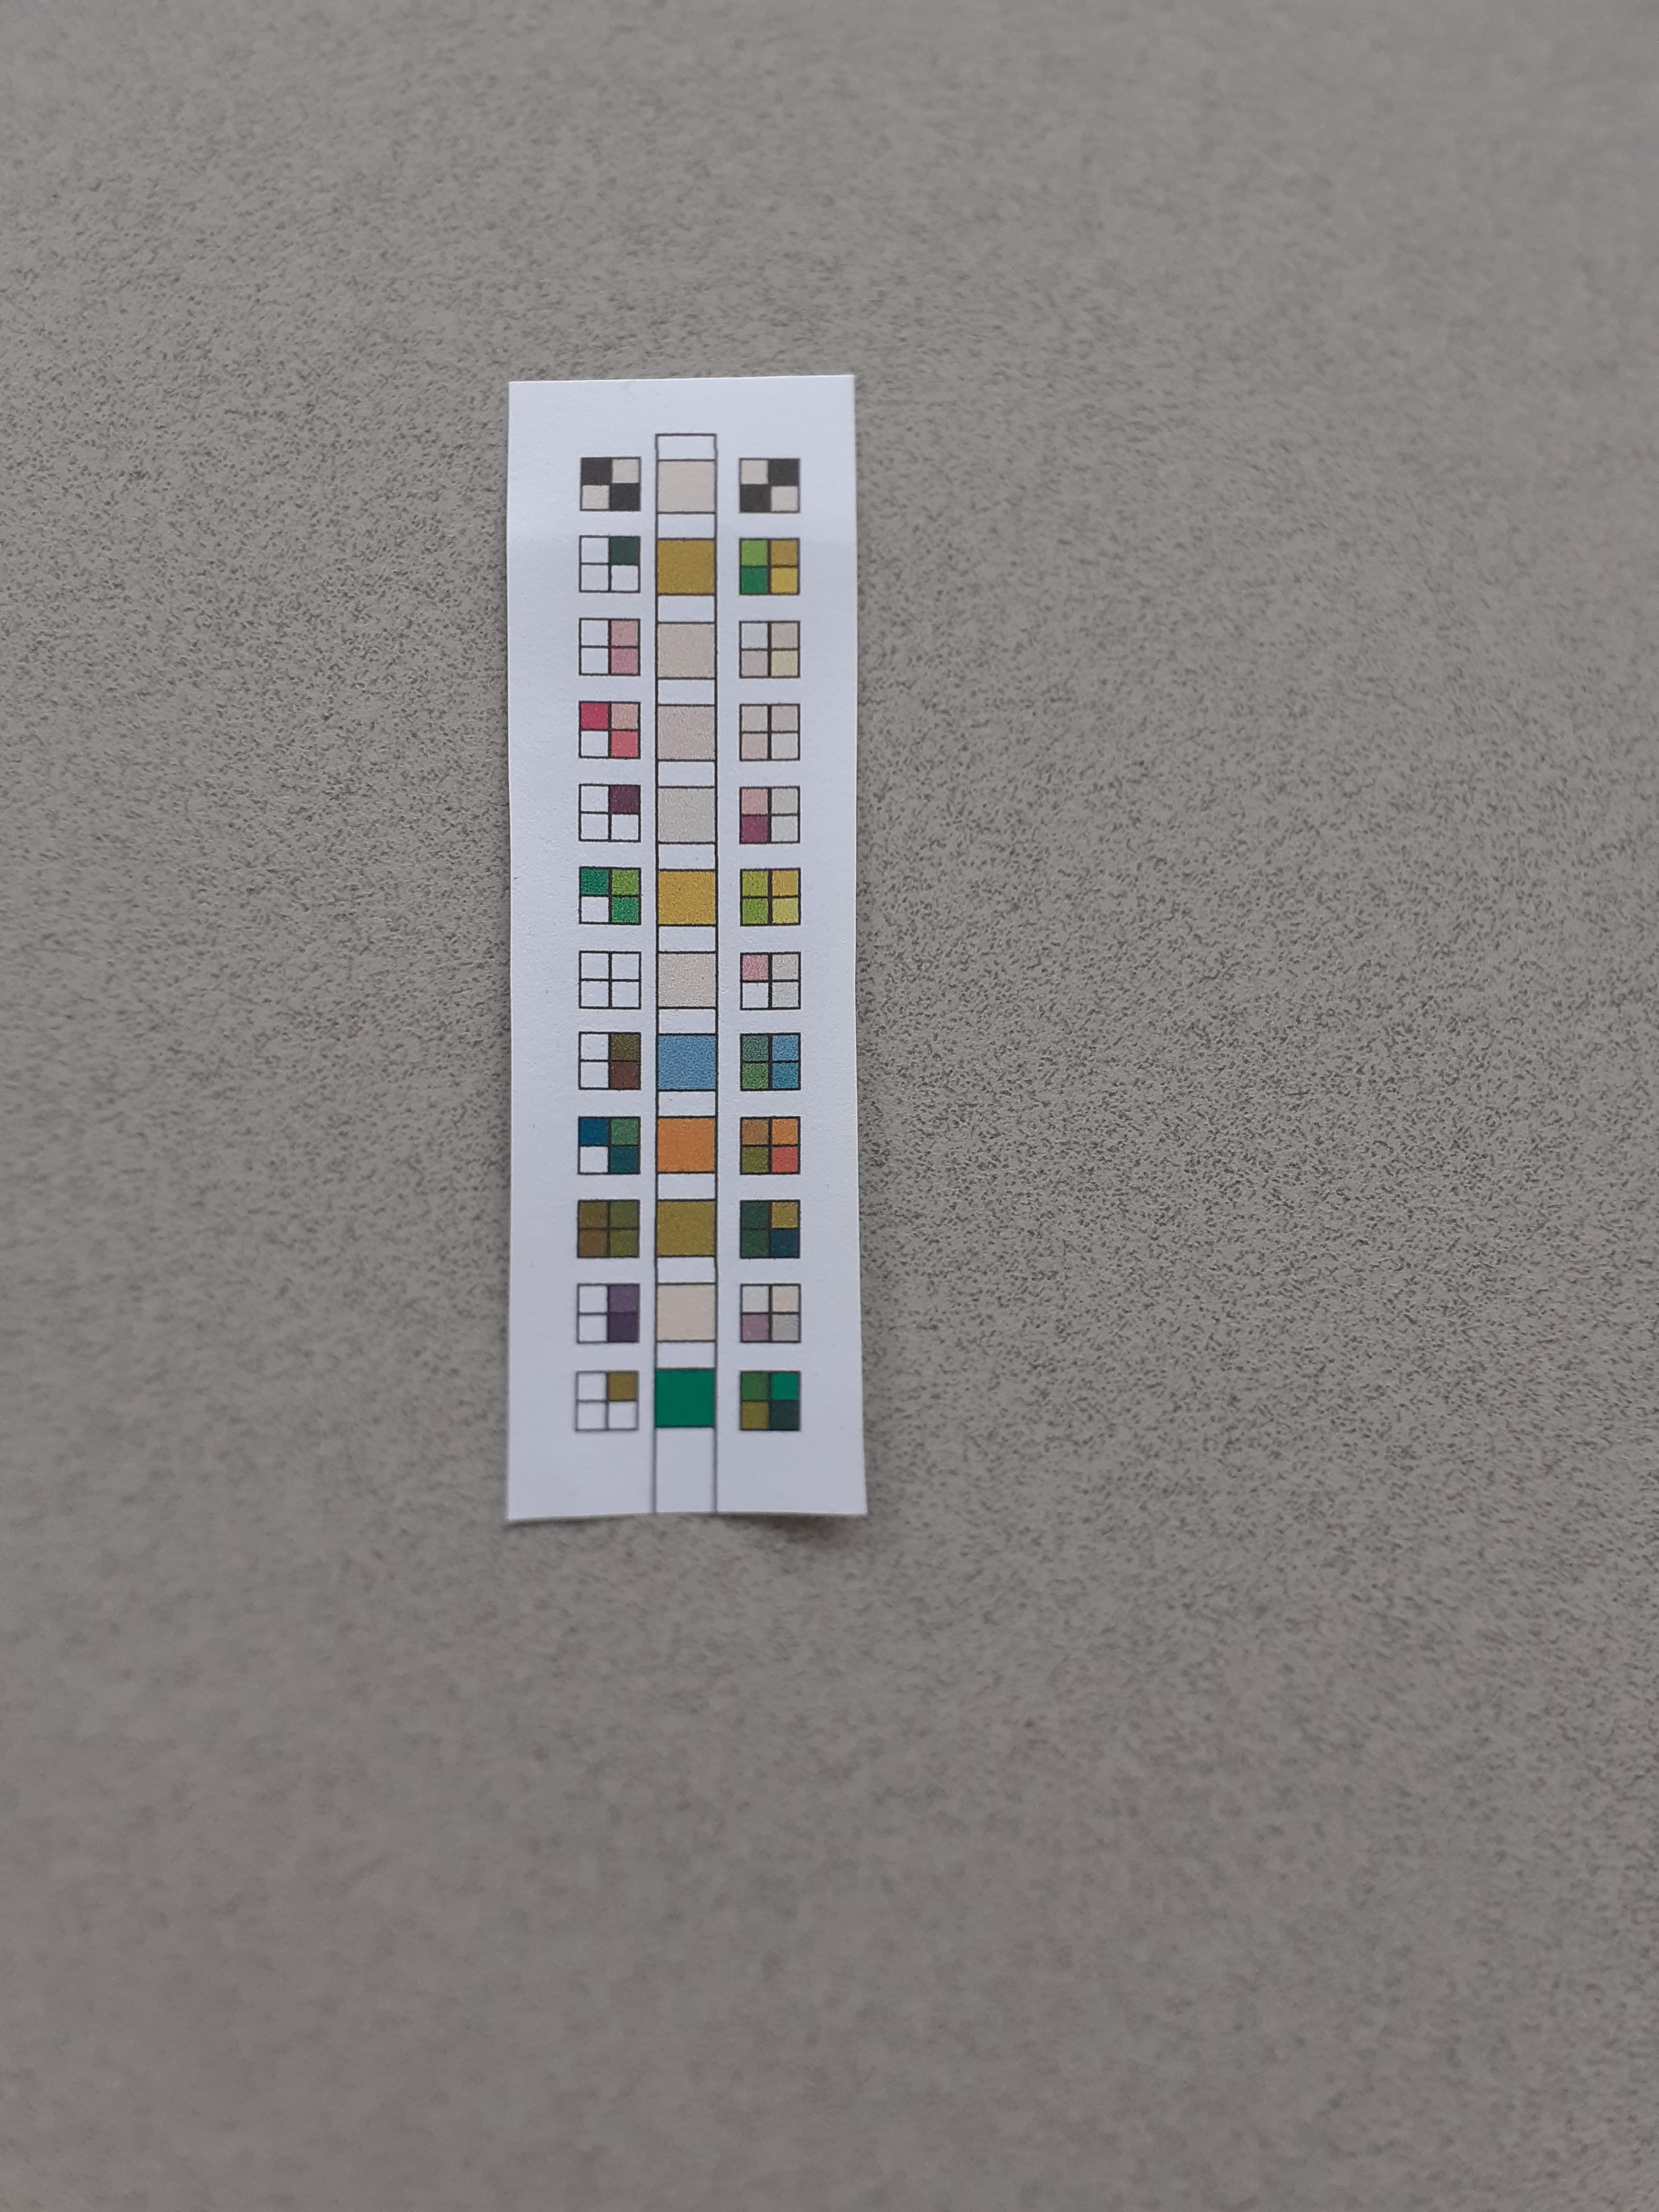tester: (507, 383, 870, 1521)
